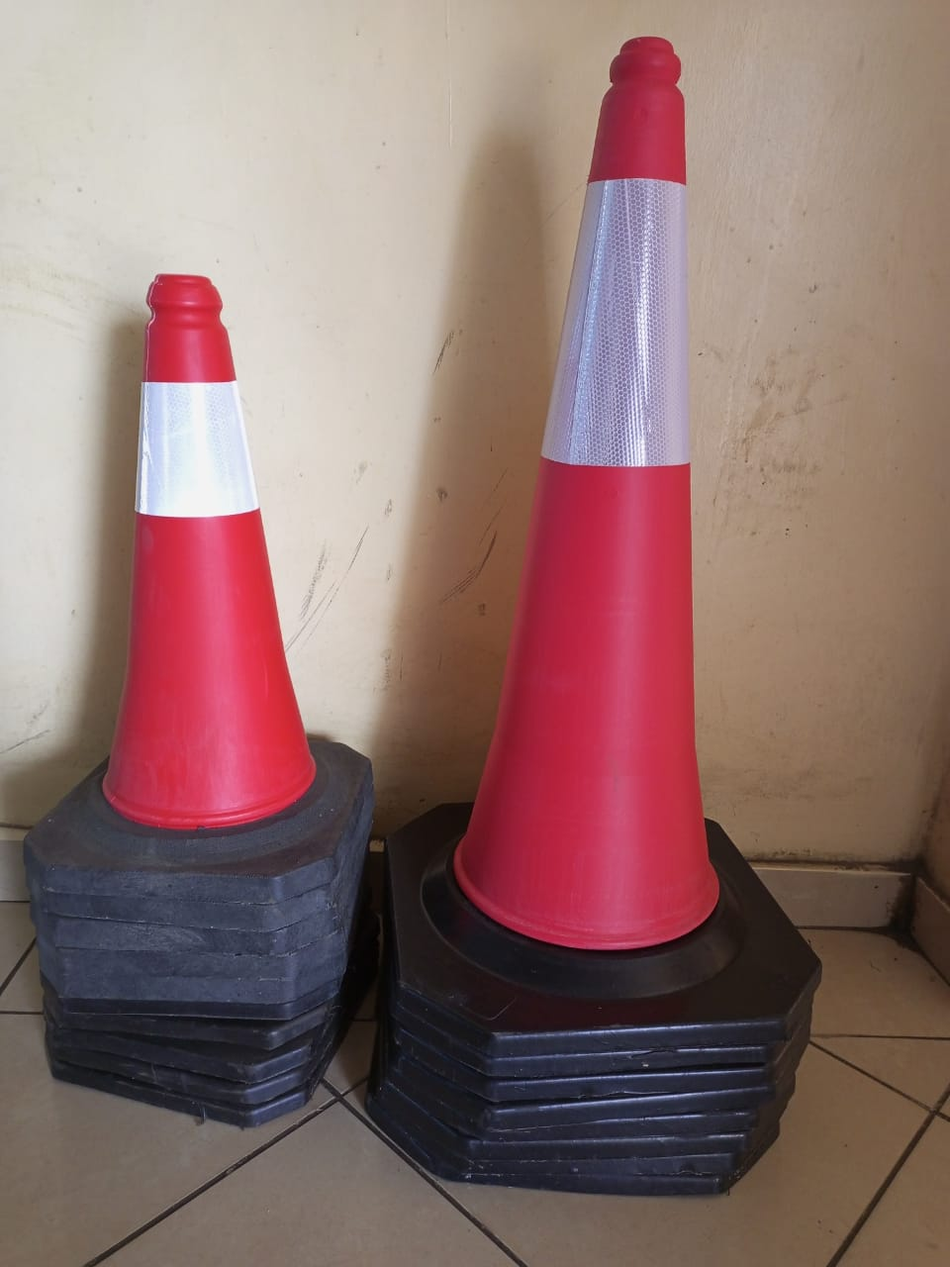Road_cone: (433, 25, 824, 1035), (24, 263, 364, 896)
